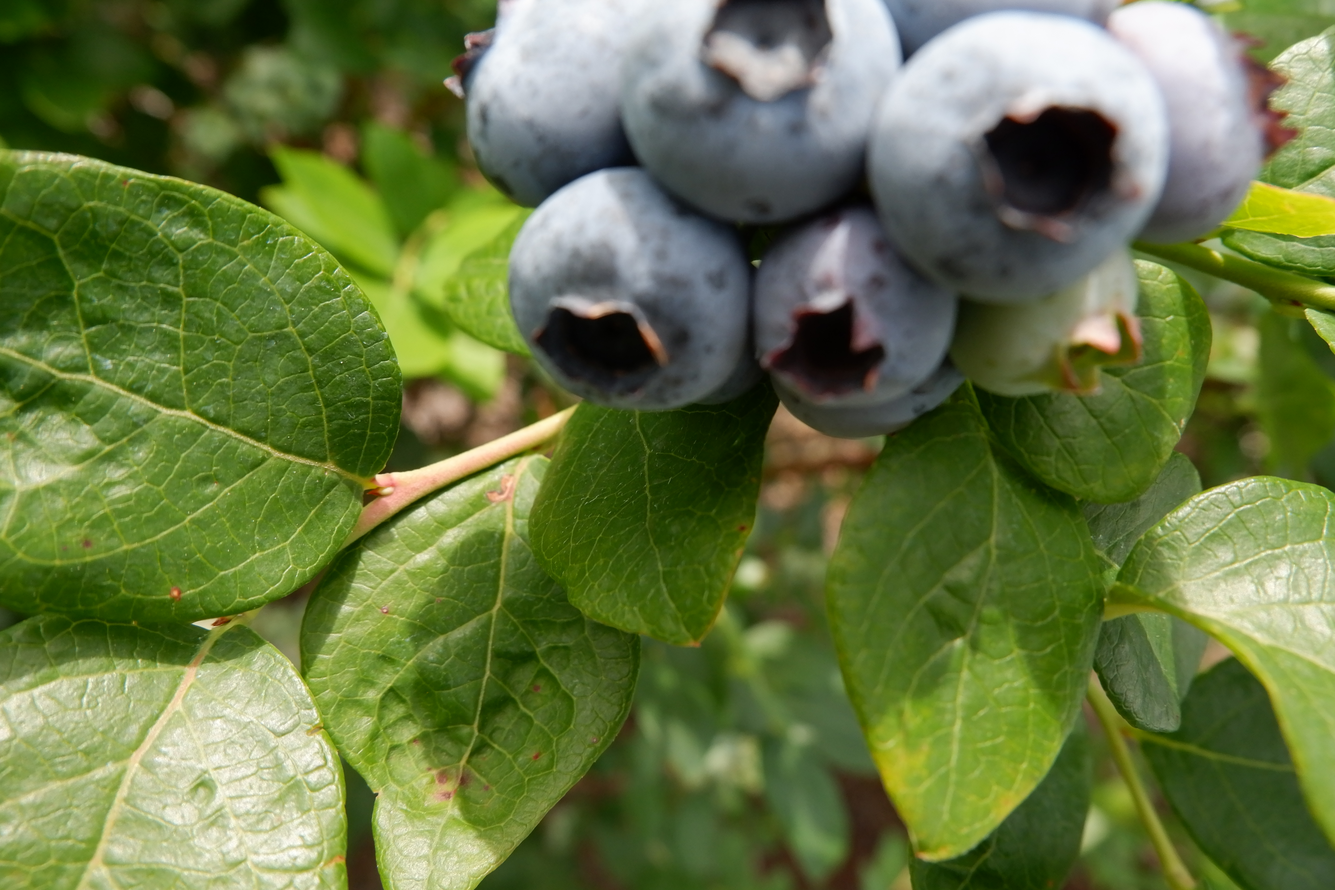Immature: (955, 253, 1132, 390)
Mature: (874, 18, 1163, 293), (627, 1, 898, 218), (507, 173, 750, 404), (466, 1, 673, 203), (756, 207, 958, 408), (1118, 9, 1283, 234), (775, 363, 963, 435), (888, 1, 1112, 60)
